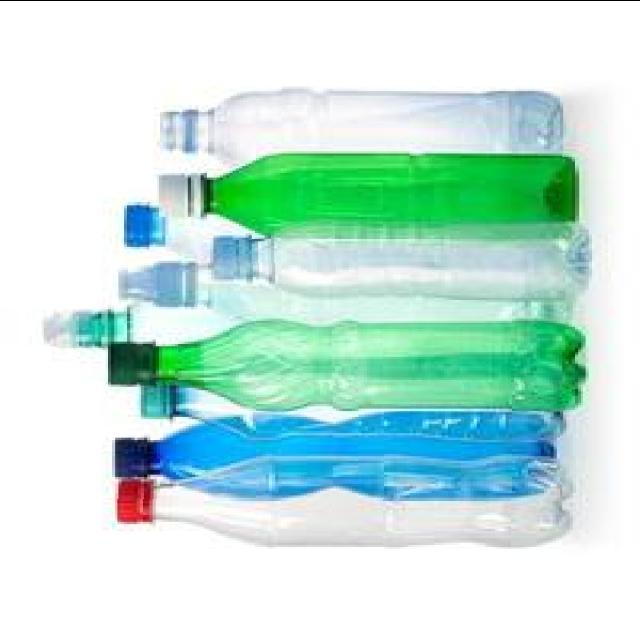bottle: (109, 319, 582, 408), (118, 457, 566, 545), (114, 410, 561, 497), (159, 153, 576, 237), (159, 88, 562, 161), (120, 262, 565, 322), (140, 383, 562, 439), (213, 235, 585, 297), (43, 302, 246, 346), (124, 203, 252, 262)
